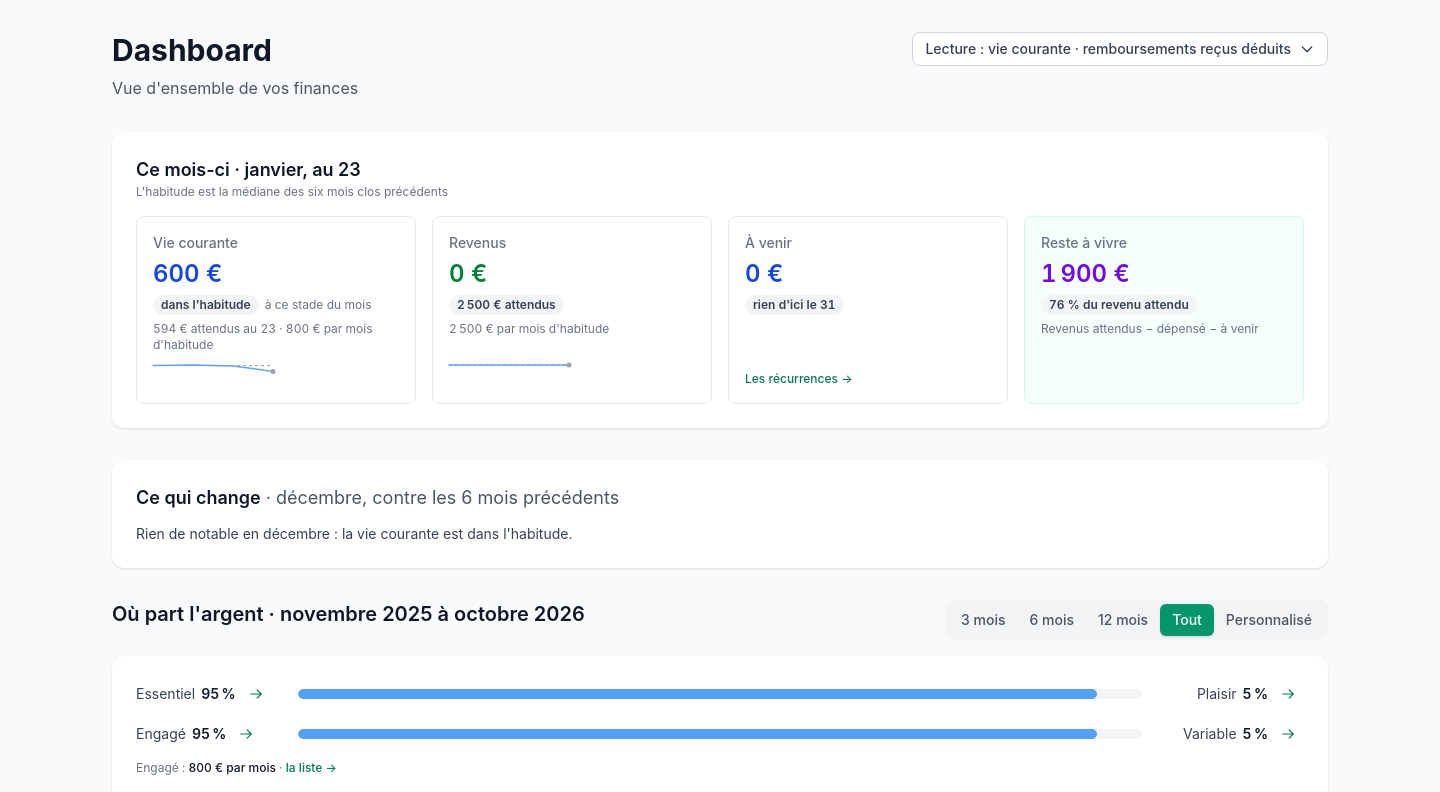
DashboardPage › Où part l'argent › the unfolded lines › loads folded, then opens a segment in place, under its line
Step 1. Click the button with test id "structure-toggle-pleasure" → (1232, 694), box [1197,680,1268,708]
(page scrolled)
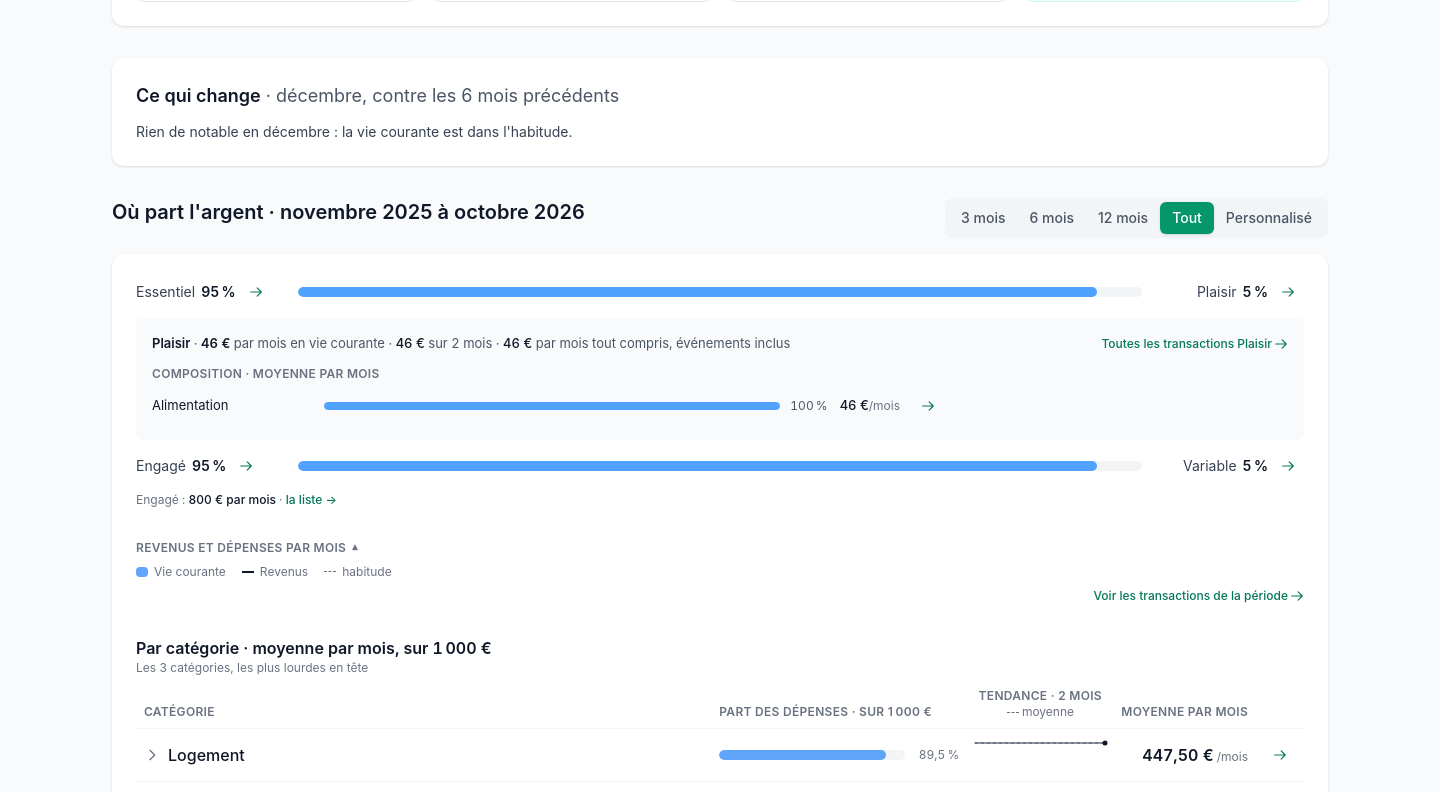
Check: the list item with test id "structure-panel-row-cat-Alimentation" is shown, box [152,388,944,424]
